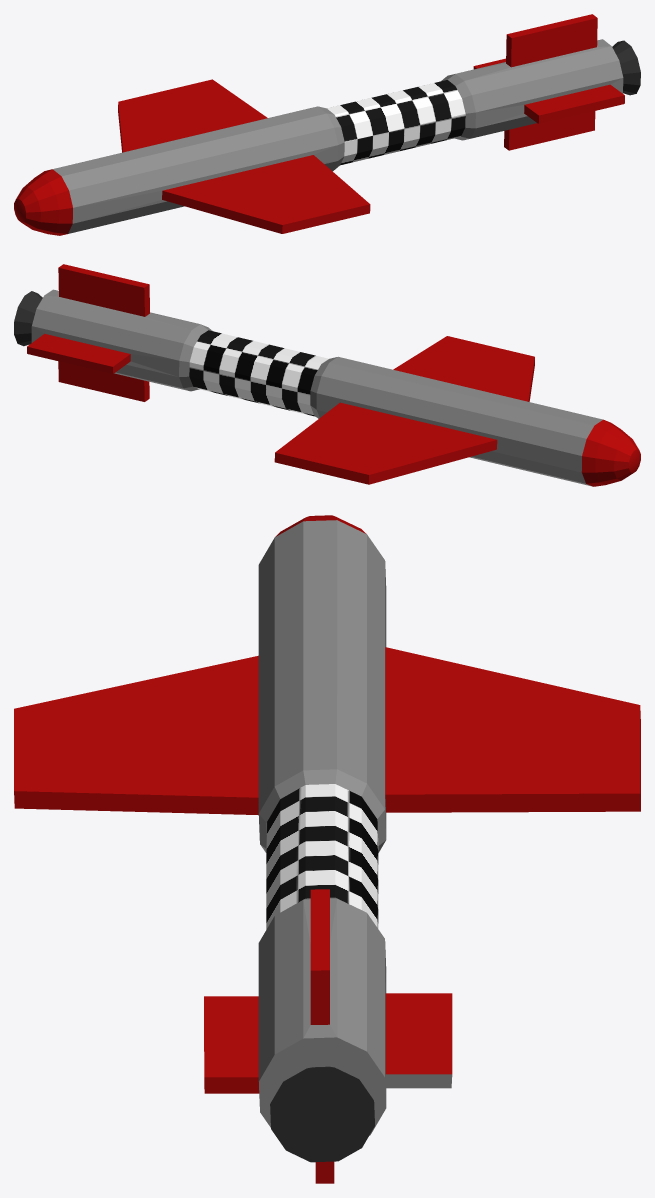
File: ProtectiveMissile.fbx
3 views of the same model, one above another, from view 1: azimuth 30°, elevation 25°; view 2: azimuth 150°, elevation 25°; view 3: azimuth 270°, elevation 25° (orthographic). The views are drawn at different scales.
Parts seen in each view (by area): view 1: pCylinder1; view 2: pCylinder1; view 3: pCylinder1.
Boxes of the visible parts, x1,y1,x2,y2 form: pCylinder1: (14,14,640,235); pCylinder1: (14,264,640,486); pCylinder1: (14,515,640,1183).
Size of the model in its own units: 9.35 by 1.67 by 4.38.
Materials: 1 (1 with a texture image).
